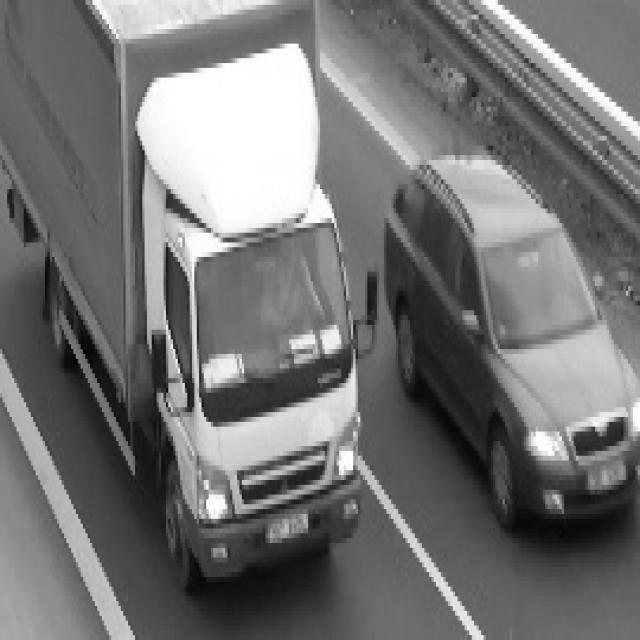truck: (102, 42, 406, 608)
